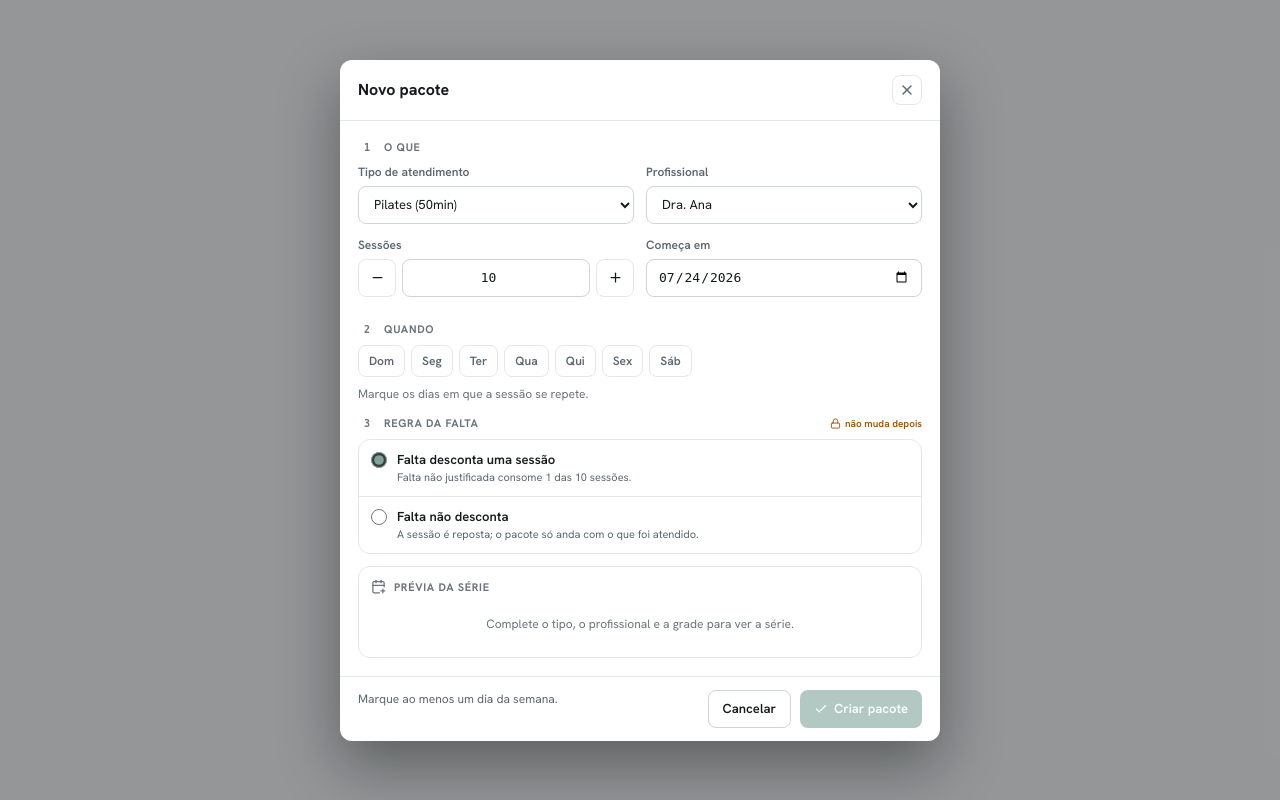
Test case: PackageCreateModal › total acima do teto explica o limite (B1.6)
Click the button "Seg" at [432, 360], box [411,344,453,376]
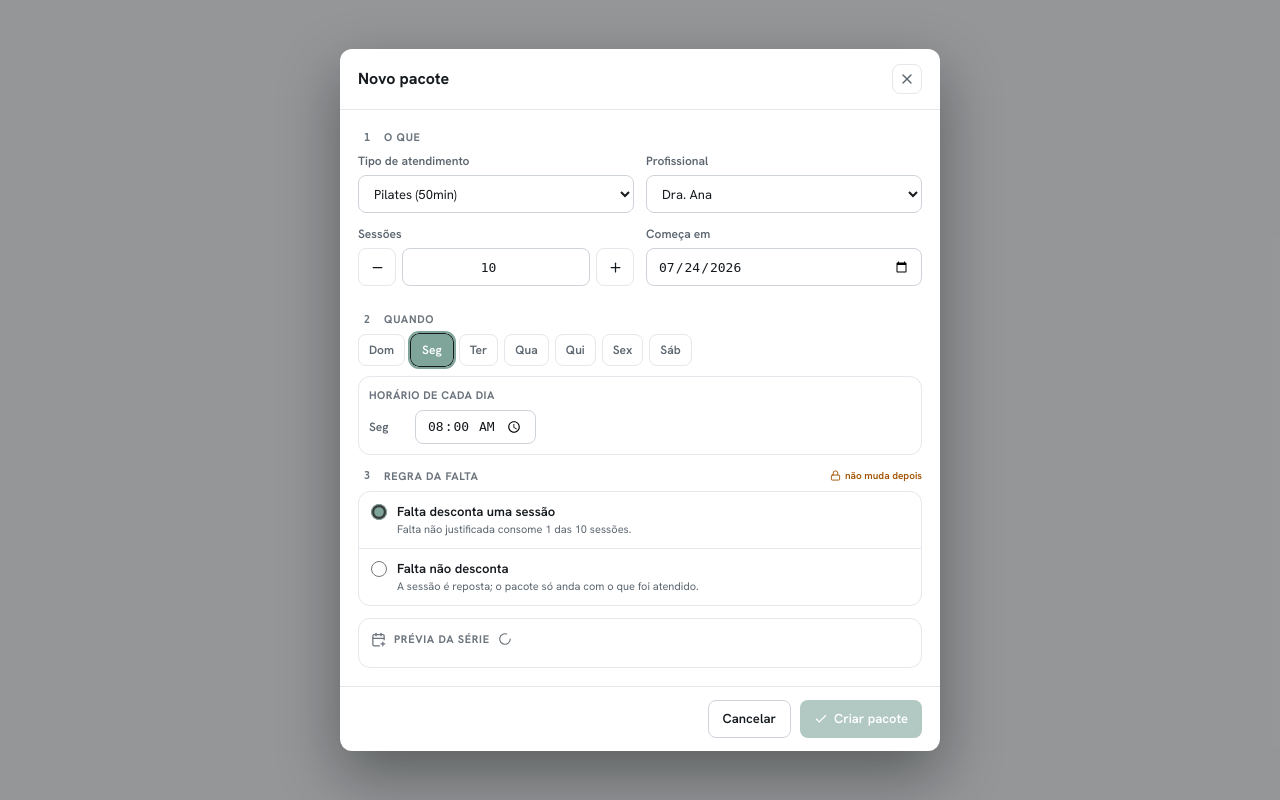
Clear the number field labelled "Sessões" at [496, 267], box [402,248,590,286]
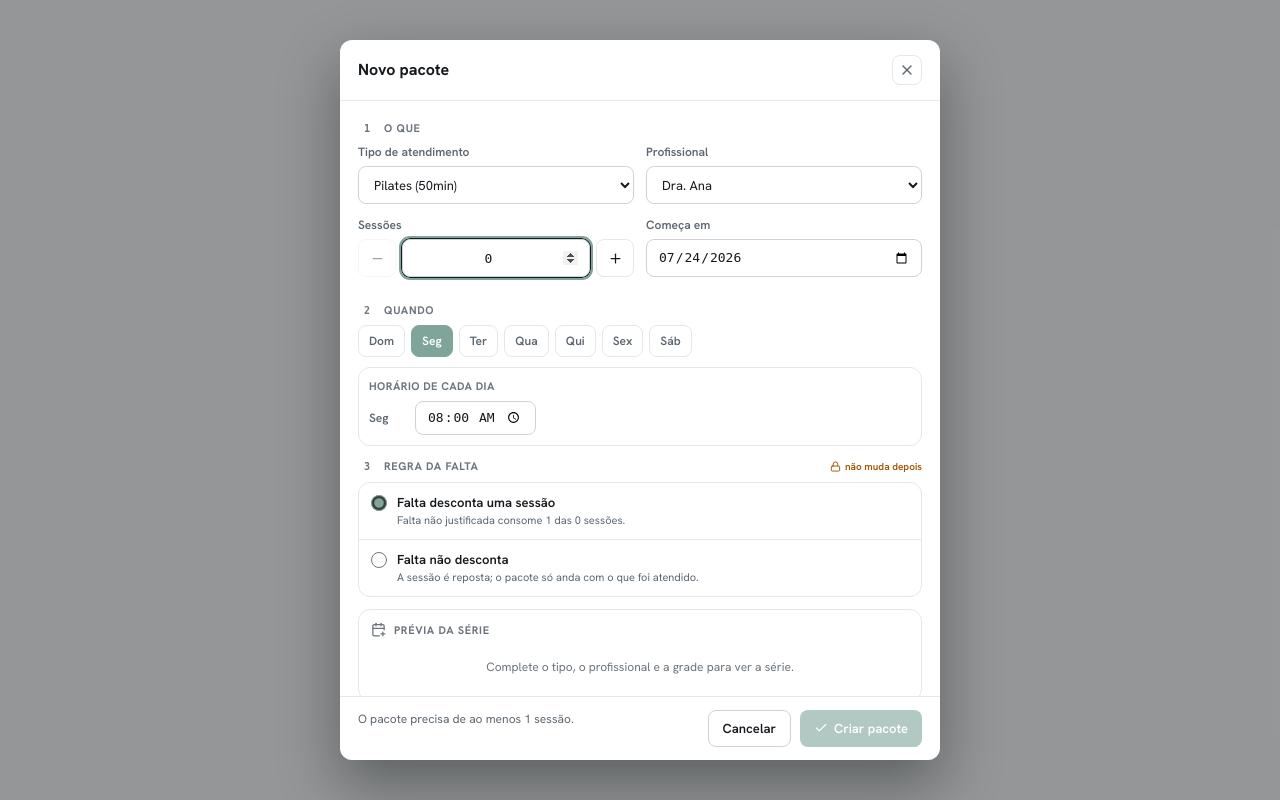
Type "500" into the number field labelled "Sessões" at [496, 258], box [402,239,590,277]
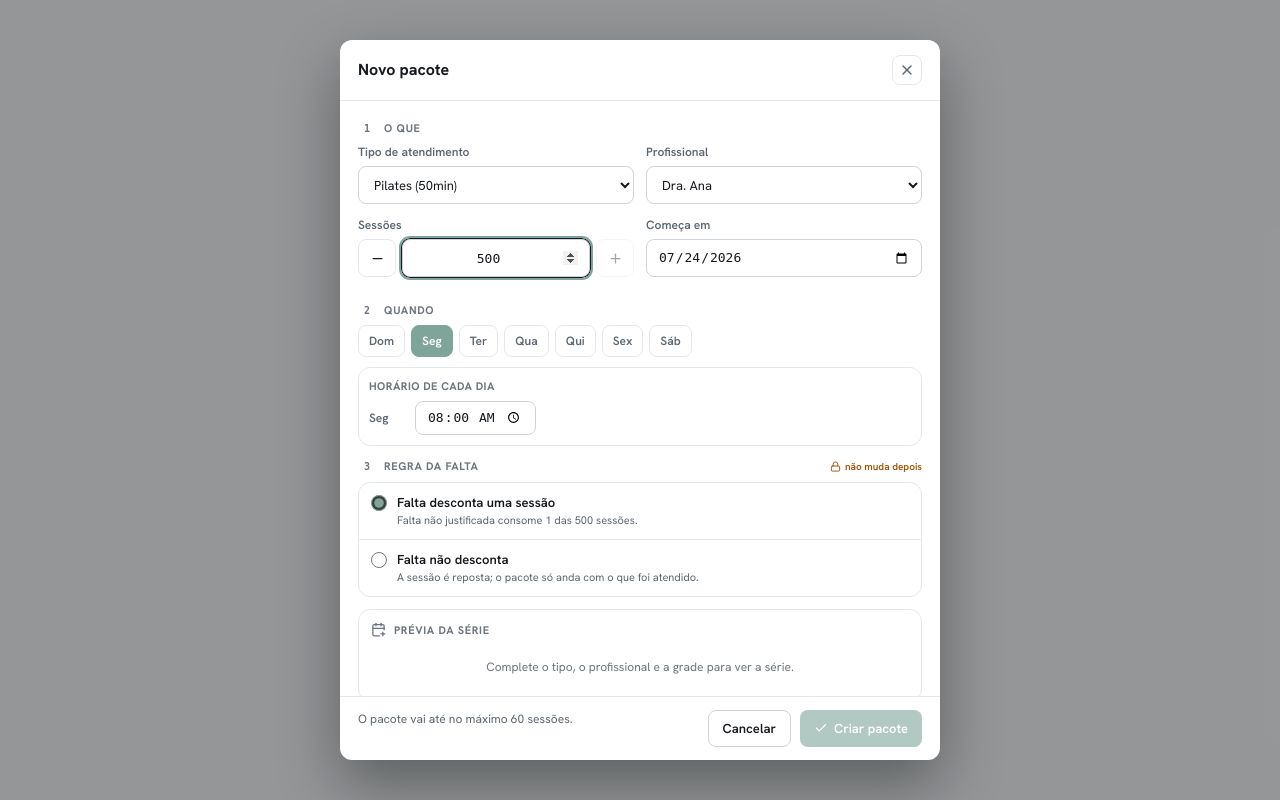
Check: the text "O pacote vai até no máximo 60 sessões." is shown, box [358,710,573,728]
